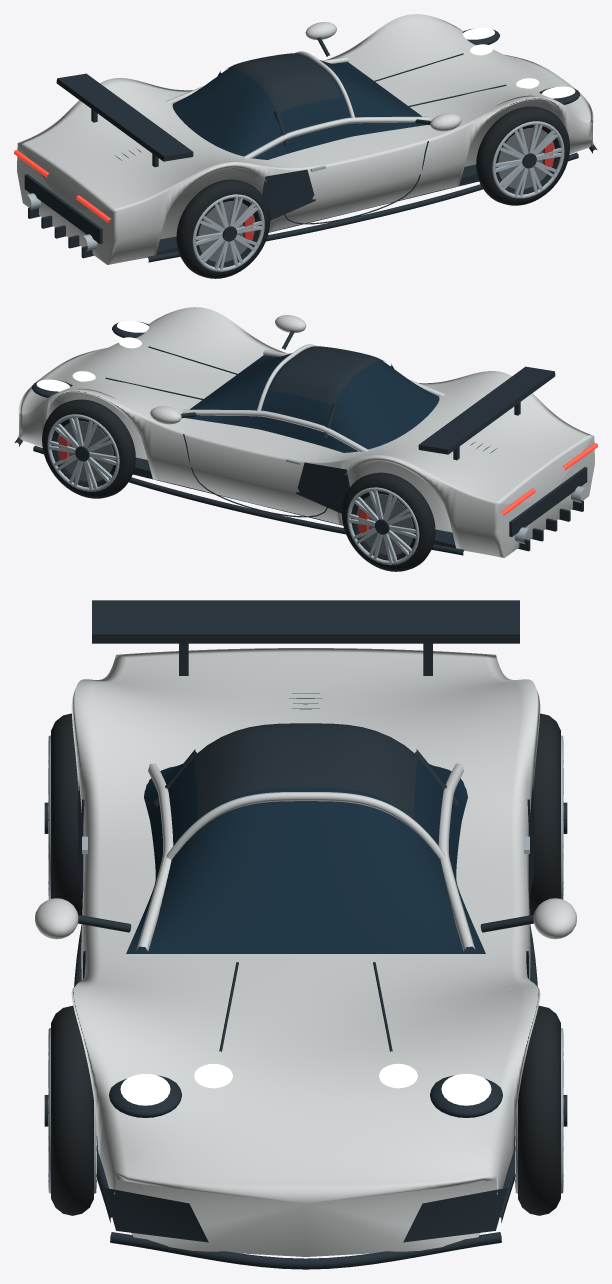
Rendered from car06.glb.
3 views of the same model, one above another, from view 1: azimuth 30°, elevation 25°; view 2: azimuth 150°, elevation 25°; view 3: azimuth 270°, elevation 25° (orthographic). The views are drawn at different scales.
Parts seen in each view (by area): view 1: continuous-sculpted-body, CAR06, curved-windows, roof-panel; view 2: continuous-sculpted-body, CAR06, curved-windows, roof-panel; view 3: continuous-sculpted-body, CAR06, curved-windows, roof-panel.
Boxes of the visible parts, <box> form: continuous-sculpted-body: <box>17,14,593,264</box>; CAR06: <box>14,22,597,278</box>; curved-windows: <box>172,56,426,159</box>; roof-panel: <box>227,53,340,112</box>; continuous-sculpted-body: <box>18,307,594,557</box>; CAR06: <box>14,315,597,571</box>; curved-windows: <box>185,349,439,452</box>; roof-panel: <box>271,346,384,405</box>; continuous-sculpted-body: <box>71,648,540,1256</box>; CAR06: <box>35,600,576,1269</box>; curved-windows: <box>126,759,485,953</box>; roof-panel: <box>194,723,417,819</box>.
Bounding box in the file's own units: 4.86 × 1.26 × 2.22.
